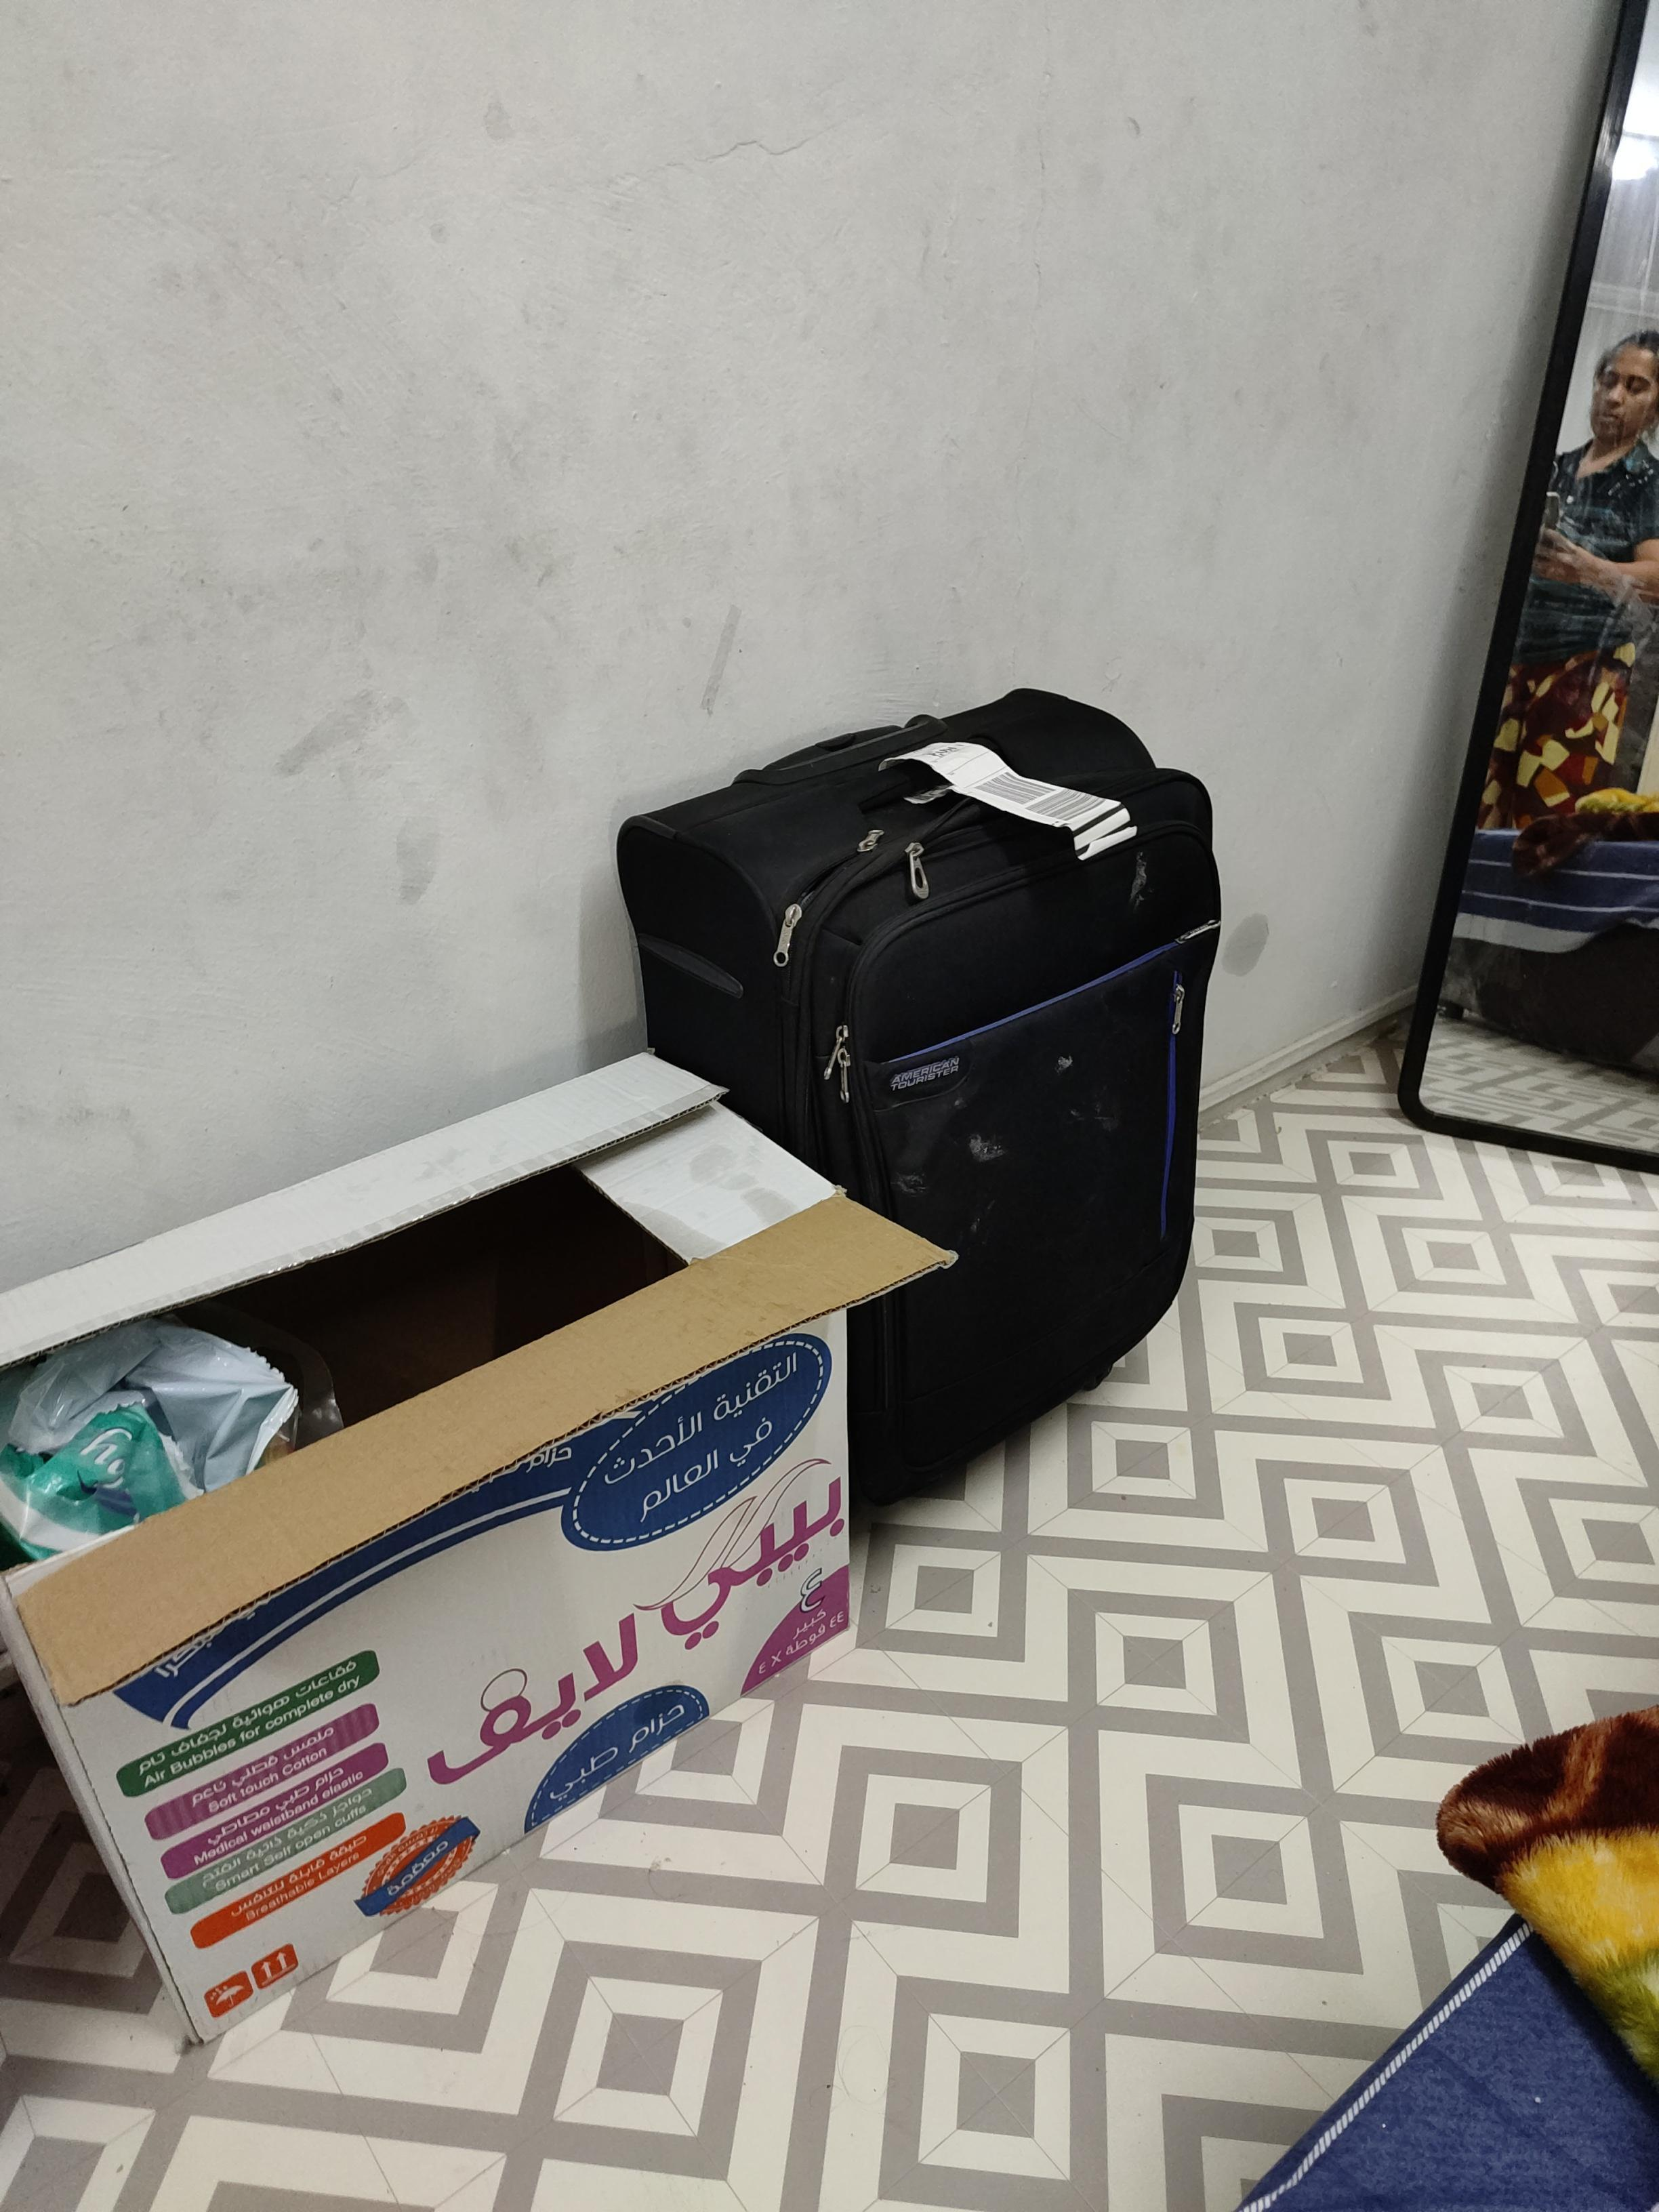person: (1468, 321, 1659, 846)
suitcase: (594, 672, 1238, 1523)
